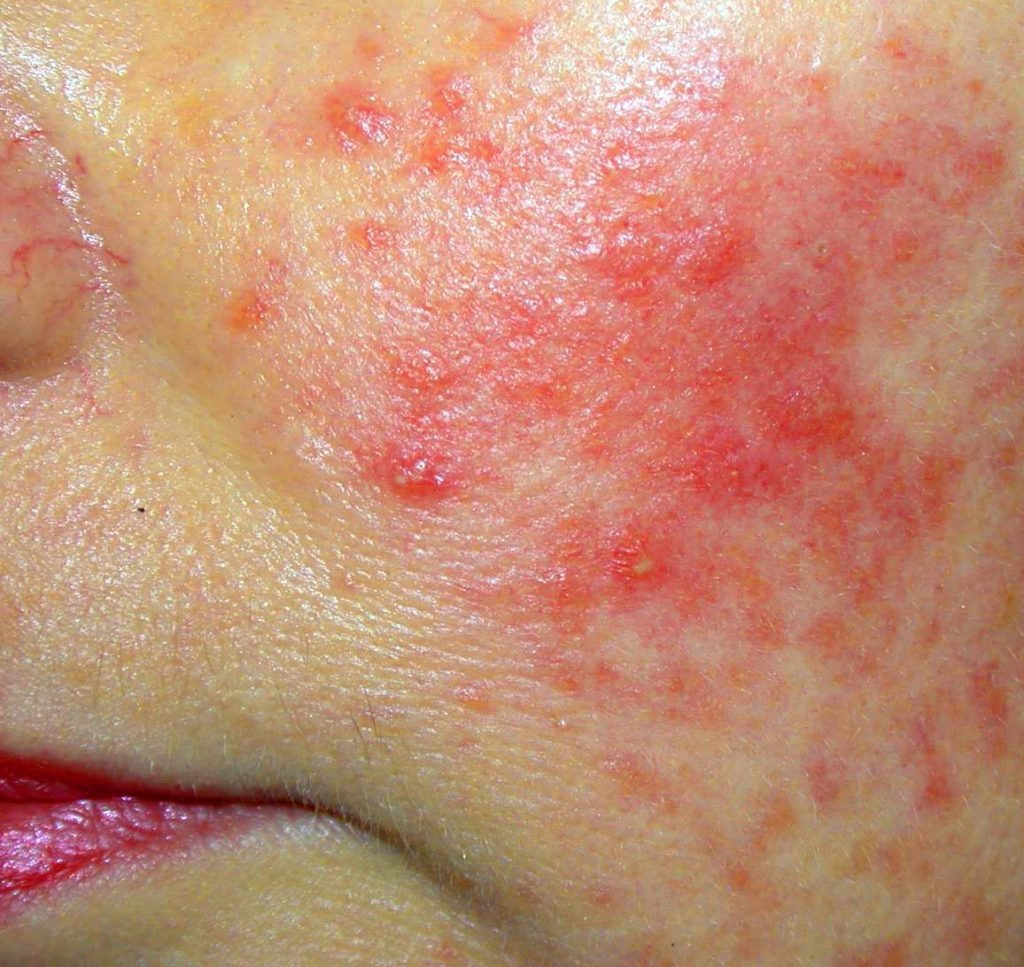Acne: (253, 27, 982, 723)
